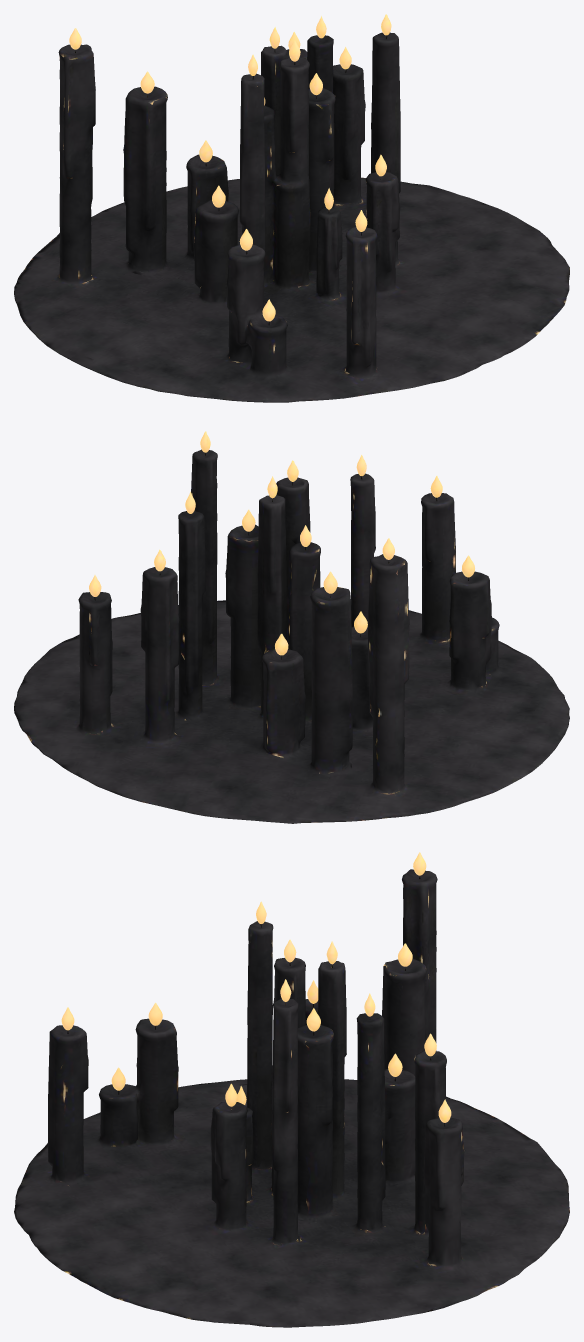
Rendered from black_candles.glb.
The picture shows the model from 3 angles, top to bottom: view 1: azimuth 30°, elevation 25°; view 2: azimuth 150°, elevation 25°; view 3: azimuth 270°, elevation 25°; orthographic projection. The views are drawn at different scales.
Visible parts, largest first — view 1: Cluster_Wax, Cluster_Flames; view 2: Cluster_Wax, Cluster_Flames; view 3: Cluster_Wax, Cluster_Flames.
Boxes of the visible parts, x1,y1,x2,y2 form: Cluster_Wax: (14, 32, 569, 402); Cluster_Flames: (69, 14, 391, 321); Cluster_Wax: (14, 449, 569, 823); Cluster_Flames: (89, 431, 474, 655); Cluster_Wax: (14, 869, 569, 1327); Cluster_Flames: (61, 852, 451, 1122).
Size of the model in its own units: 1.28 by 0.6559 by 1.2.
Materials: 1 (1 with a texture image).
